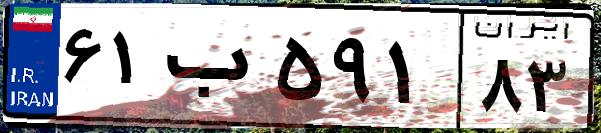1: (385, 28, 445, 110), (110, 28, 158, 98)
3: (525, 38, 570, 115)
5: (270, 28, 330, 110)
6: (57, 26, 110, 100)
8: (475, 38, 525, 113)
9: (330, 28, 385, 110)
ب: (158, 20, 270, 120)
